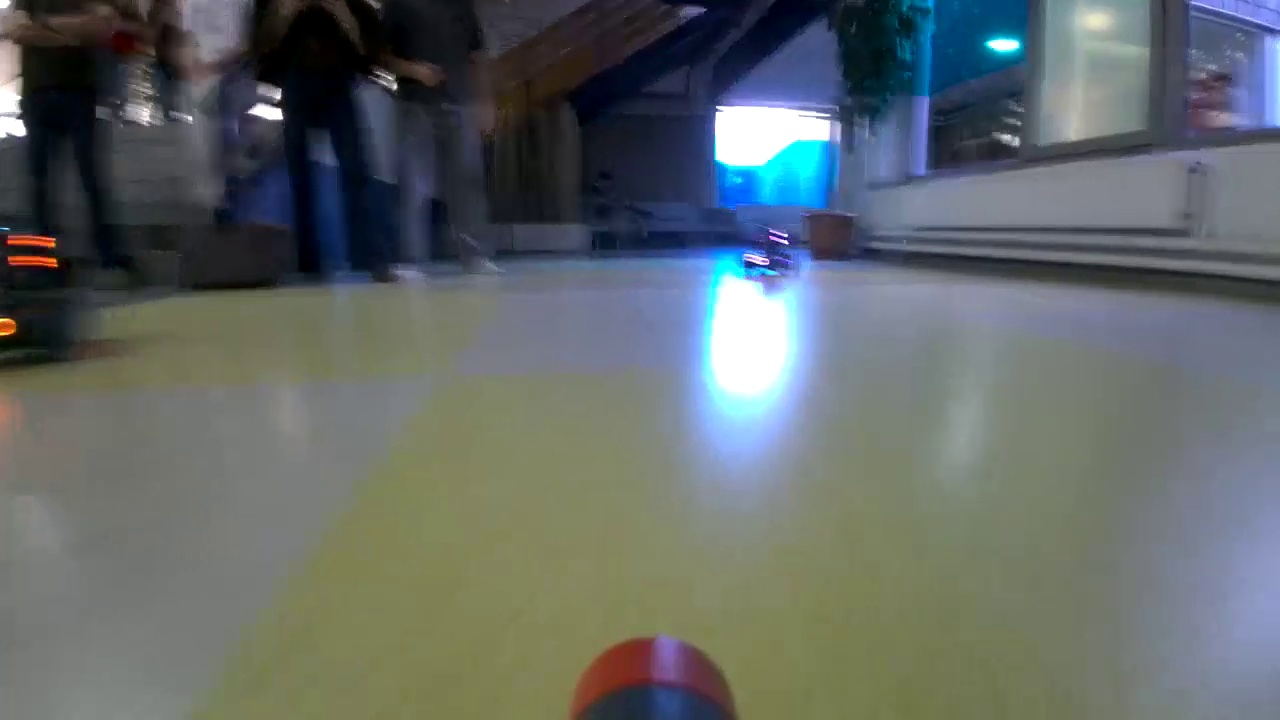robot: (1, 229, 69, 370), (740, 222, 796, 275)
